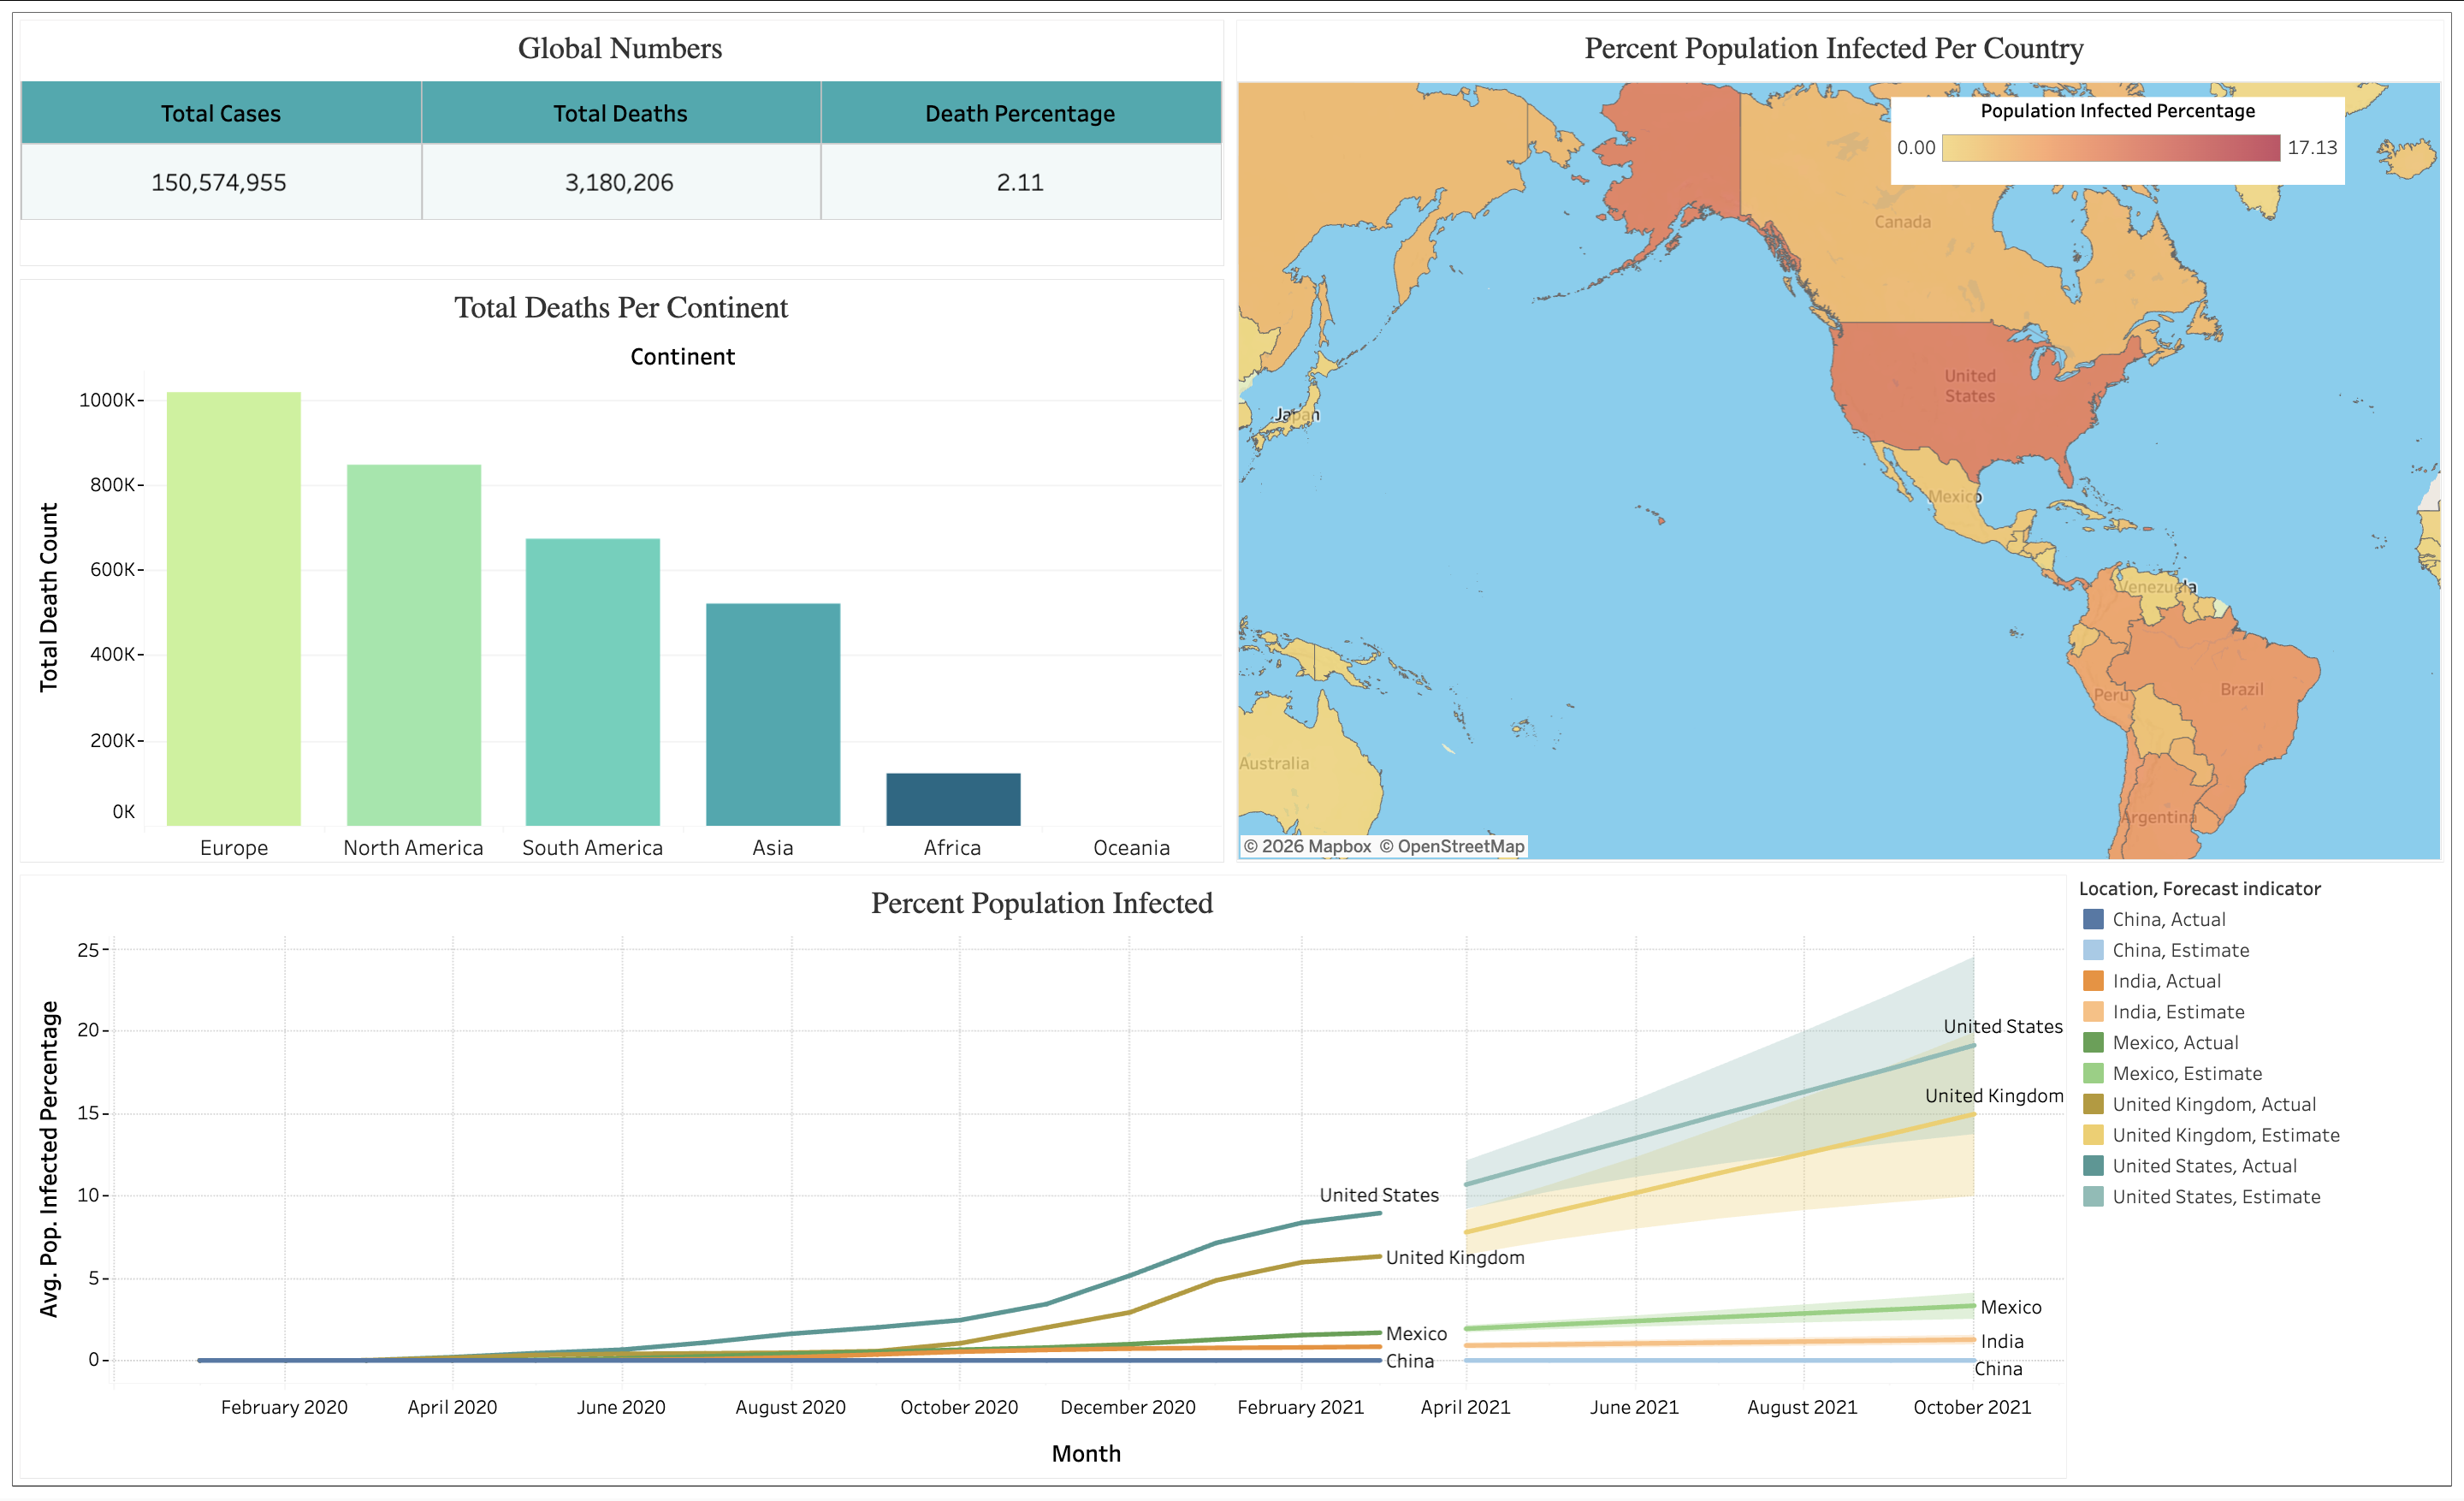

What the dashboard file says about the page in this screenshot:
{"tool":"tableau","page":{"name":"Dashboard 1","canvas":[1000,1000],"units":"permille","ordinal":0},"visuals":[{"type":"worksheet","title":"Sheet 1","mark":"Automatic","box":[7.3,11.7,492.2,171.4]},{"type":"worksheet","title":"Sheet 3","mark":"Automatic","box":[499.5,11.7,493.2,567.4]},{"type":"legend","title":"Sheet 3","param":"[federated.1204esj0kqs8l917dw6i00vi8xzp].[sum:PopulationInfectedPercentage:qk]","box":[767.3,65.1,184.7,58.6]},{"type":"worksheet","title":"Sheet 2","mark":"Automatic","rows":["TotalDeathCount"],"cols":["location"],"box":[7.3,183.1,492.2,396.1]},{"type":"worksheet","title":"Sheet 4","mark":"Automatic","rows":["PopulationInfectedPercentage"],"cols":["date"],"box":[7.3,579.2,832.6,409.1]},{"type":"legend","title":"Sheet 4","param":"[federated.1nyb2pp10r4kyk1g9q4od0qkfew6].[none:location:nk]\n[federated.1nyb2pp10","box":[839.9,579.2,152.8,307.3]}]}

Visuals, with their boxes on the dashboard's canvas, which has no fixed pixel size, in thousandths of its width and height (x1, y1, x2, y2). These are canvas units, not pixel positions in the 2464x1501 screenshot, which may show the page scaled, cropped or inside an application window:
"Sheet 1" worksheet: (7,12,500,183)
"Sheet 3" worksheet: (500,12,993,579)
"Sheet 3" legend: (767,65,952,124)
"Sheet 2" worksheet: (7,183,500,579)
"Sheet 4" worksheet: (7,579,840,988)
"Sheet 4" legend: (840,579,993,886)
